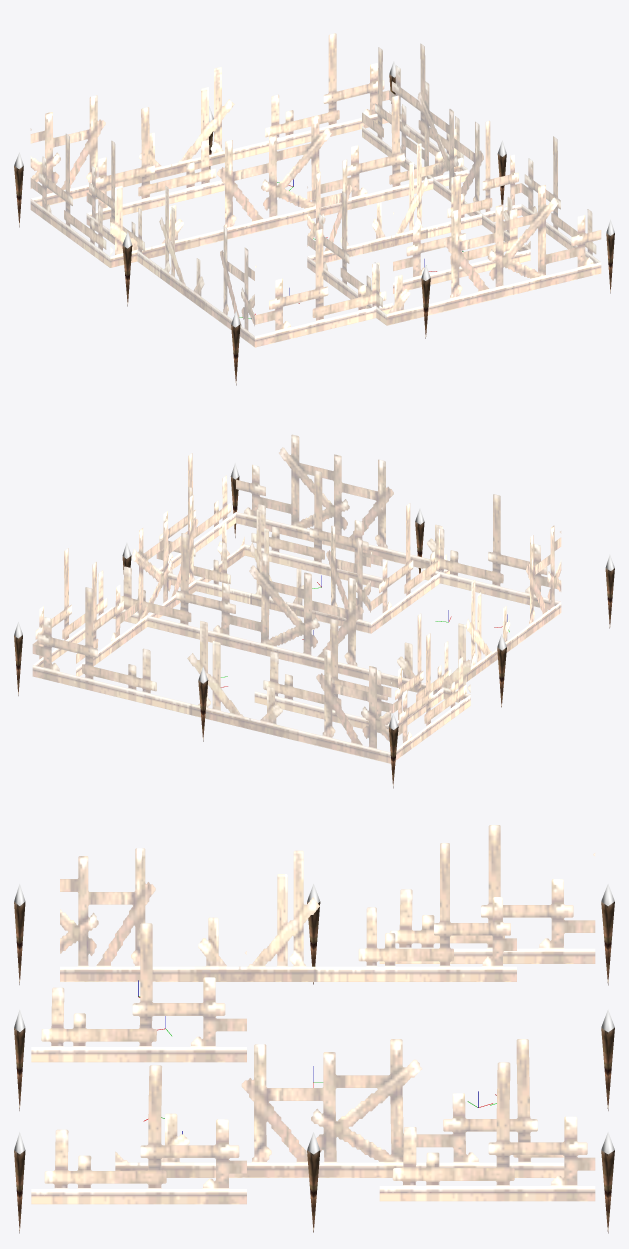
Rendered from construction-b.glb.
3 views of the same model, one above another, from view 1: azimuth 30°, elevation 25°; view 2: azimuth 150°, elevation 25°; view 3: azimuth 270°, elevation 25° (orthographic). The views are drawn at different scales.
Parts seen in each view (by area): view 1: building construction medium bModel; view 2: building construction medium bModel; view 3: building construction medium bModel.
Boxes of the visible parts, x1,y1,x2,y2 form: building construction medium bModel: (14, 33, 614, 385); building construction medium bModel: (14, 434, 614, 788); building construction medium bModel: (14, 825, 614, 1233).
Size of the model in its own units: 8.12 by 2.6 by 8.16.
Materials: 4 (2 with a texture image).
